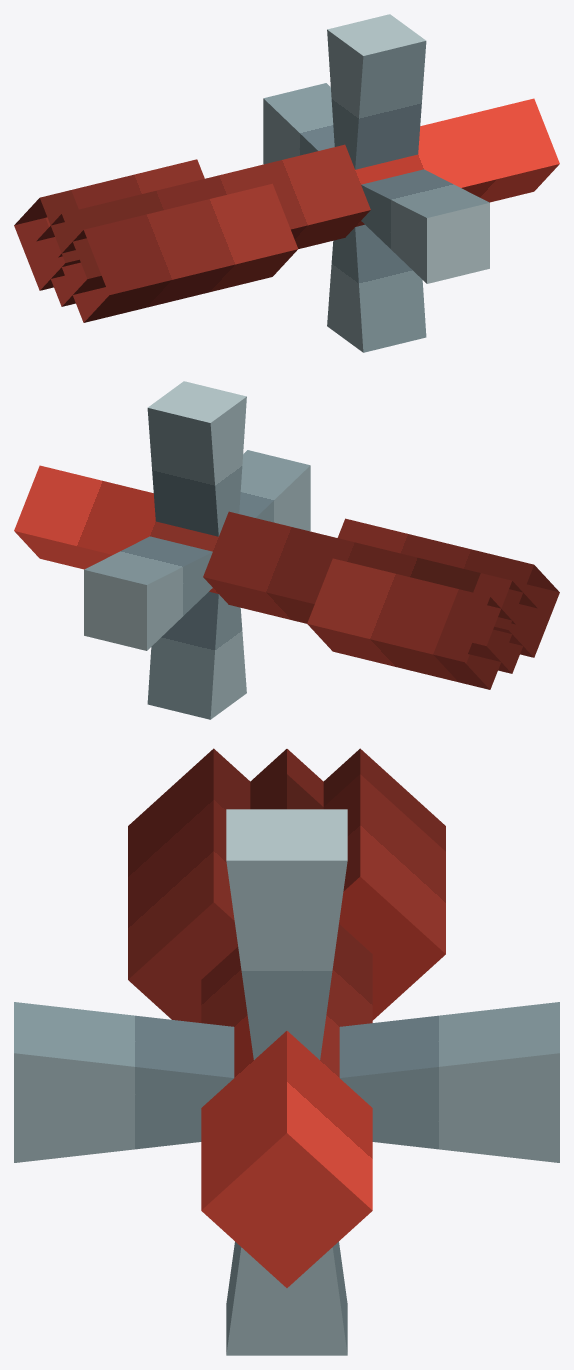
File: signalite_spike_aggregating.obj
3 views of the same model, one above another, from view 1: azimuth 30°, elevation 25°; view 2: azimuth 150°, elevation 25°; view 3: azimuth 270°, elevation 25° (orthographic). The views are drawn at different scales.
Parts seen in each view (by area): view 1: SPIKE_AGGREGATING_Cube.000; view 2: SPIKE_AGGREGATING_Cube.000; view 3: SPIKE_AGGREGATING_Cube.000.
Part boxes in pixels (x1=…): SPIKE_AGGREGATING_Cube.000: x1=14, y1=14, x2=559, y2=352; SPIKE_AGGREGATING_Cube.000: x1=14, y1=381, x2=559, y2=719; SPIKE_AGGREGATING_Cube.000: x1=14, y1=748, x2=559, y2=1355.
Size of the model in its own units: 0.4688 by 0.2812 by 0.2812.
